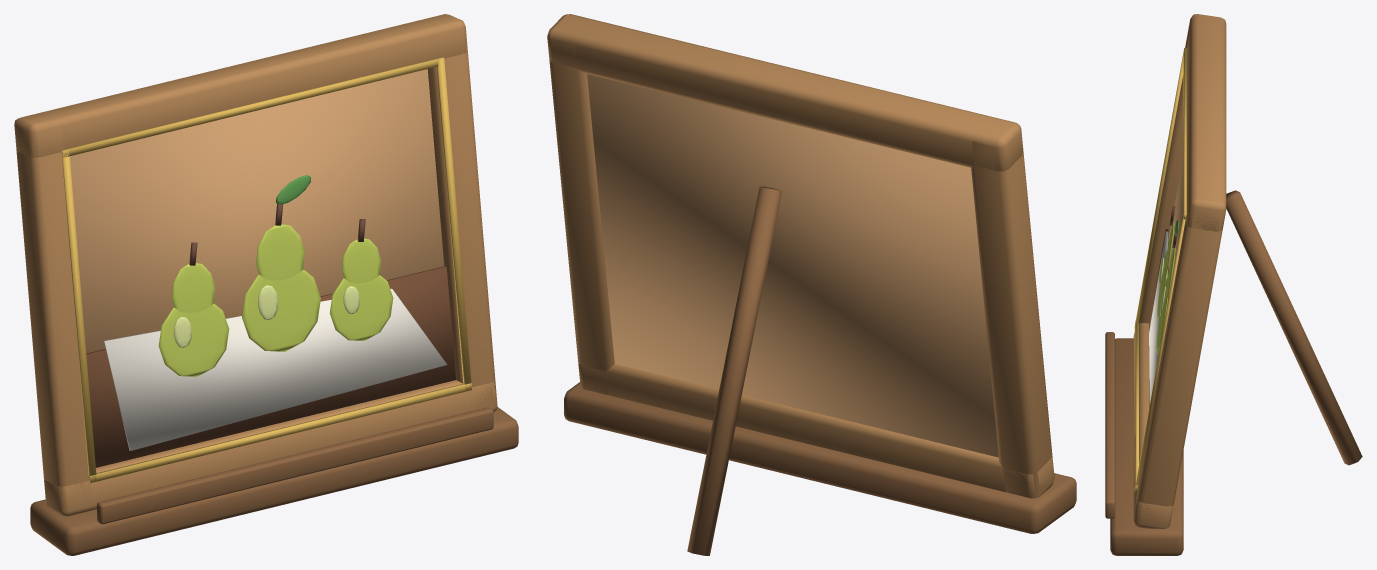
The model's file is art-three-pears.glb.
3 renders of one model, left to right at view 1: azimuth 30°, elevation 25°; view 2: azimuth 150°, elevation 25°; view 3: azimuth 270°, elevation 25°, orthographic. The views are drawn at different scales.
Parts seen in each view (by area): view 1: art; view 2: art; view 3: art.
Boxes of the visible parts, bbox=[...] form: art: bbox=[14, 14, 518, 555]; art: bbox=[547, 14, 1076, 555]; art: bbox=[1105, 14, 1362, 555].
Size of the model in its own units: 0.57 by 0.4826 by 0.3151.
